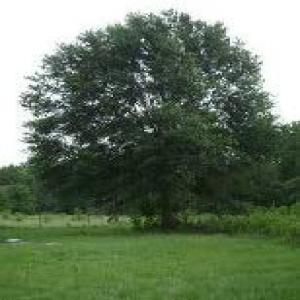Tree: (20, 4, 274, 232)
